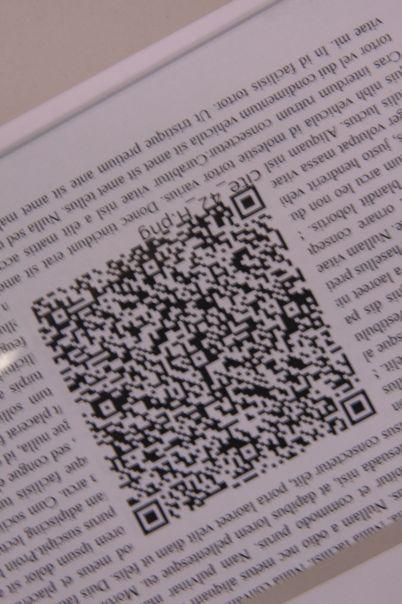Finder pattern: (224, 180, 268, 218), (339, 386, 377, 426), (134, 495, 169, 537)
